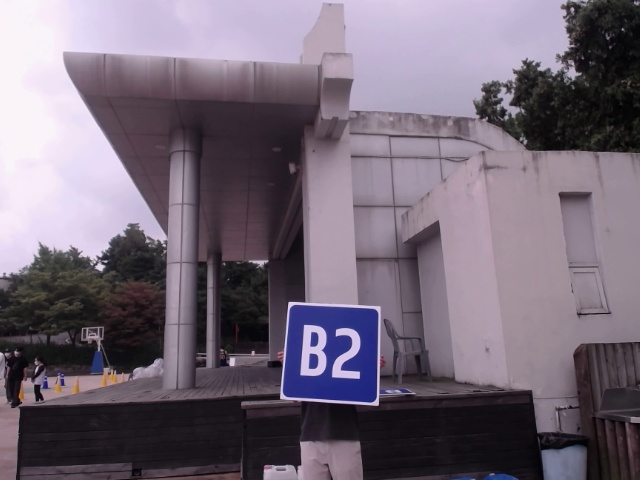delivery_b2: (282, 304, 380, 403)
